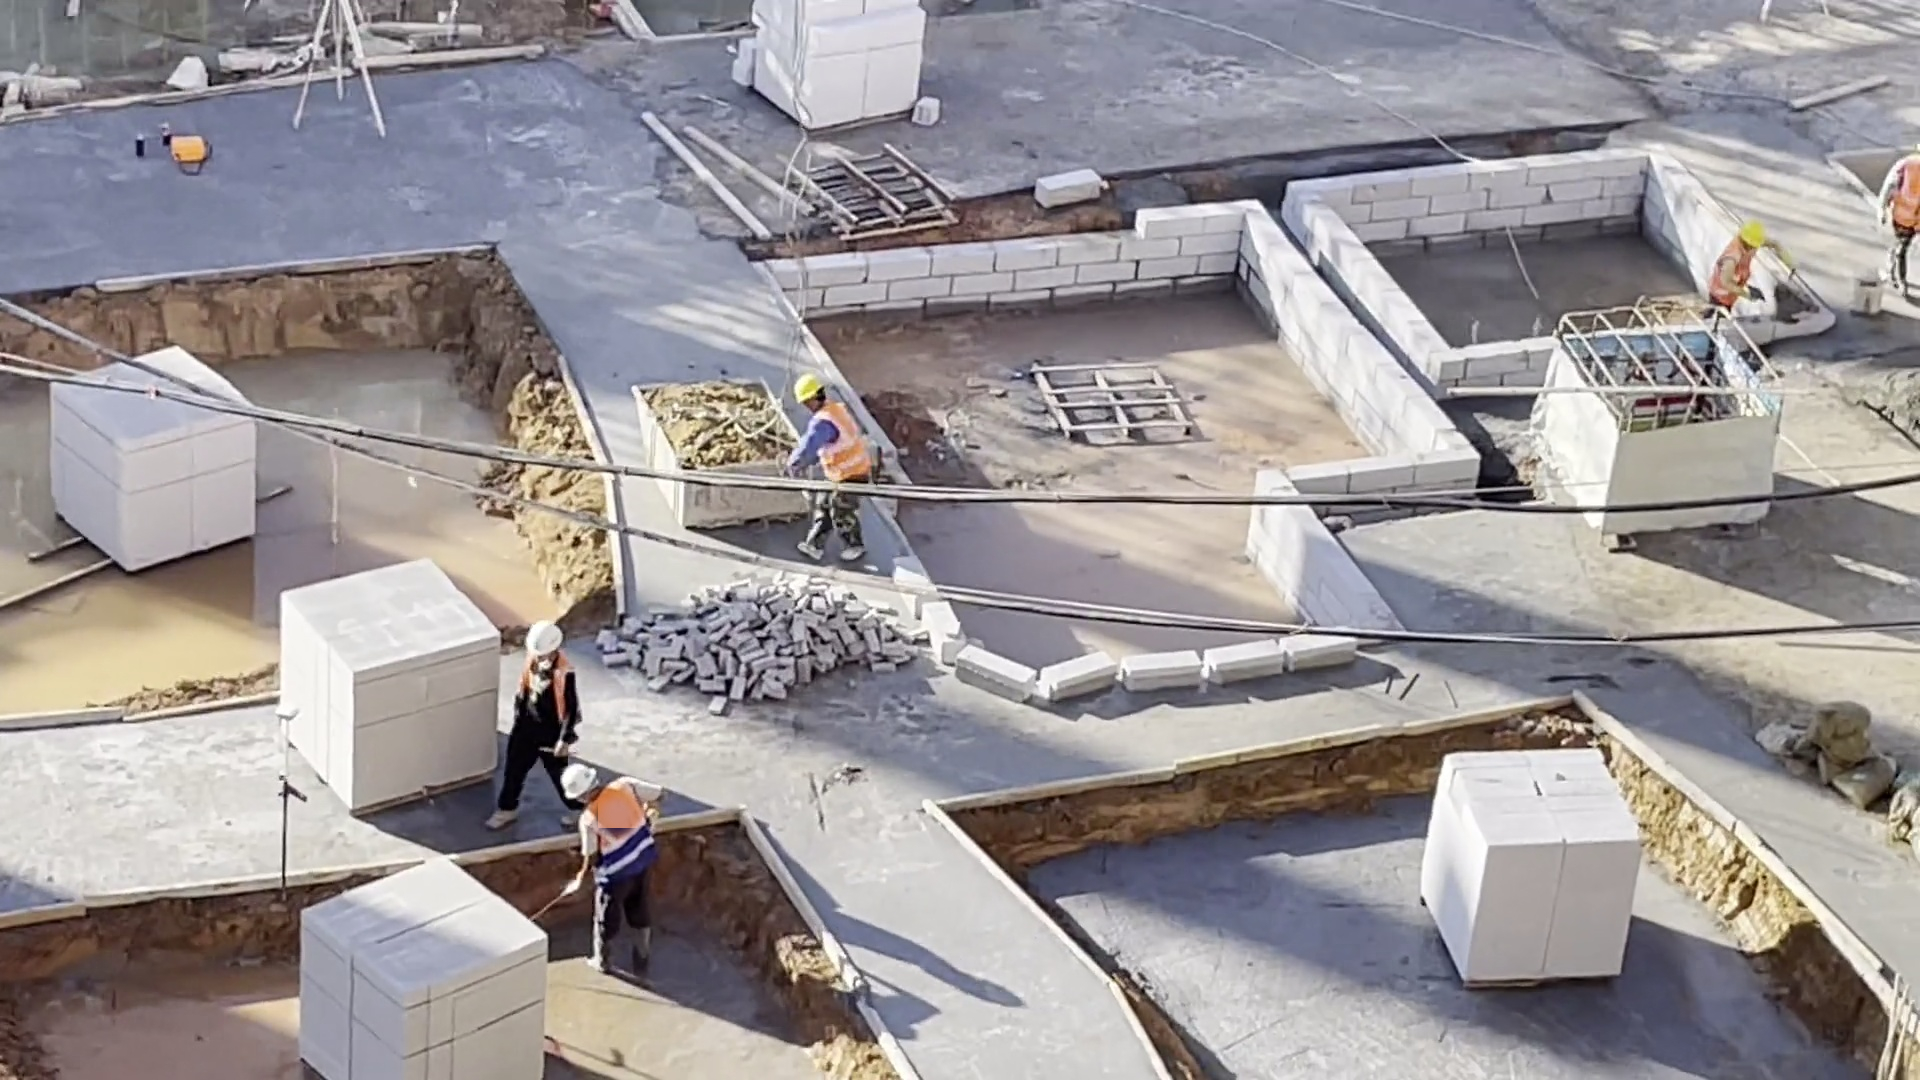brick: (1406, 746, 1654, 986), (294, 854, 549, 1080), (280, 554, 498, 815), (35, 413, 261, 569), (745, 1, 930, 128)
helmet: (522, 620, 564, 658), (559, 763, 599, 800), (788, 372, 824, 402), (1739, 222, 1766, 247)
hopper: (626, 375, 788, 468)
person: (563, 764, 666, 976), (781, 371, 875, 564), (484, 612, 564, 828), (1707, 225, 1800, 326), (1877, 150, 1920, 293)
vest: (585, 780, 658, 888), (811, 403, 873, 483), (1708, 239, 1755, 307), (1891, 156, 1920, 229)
